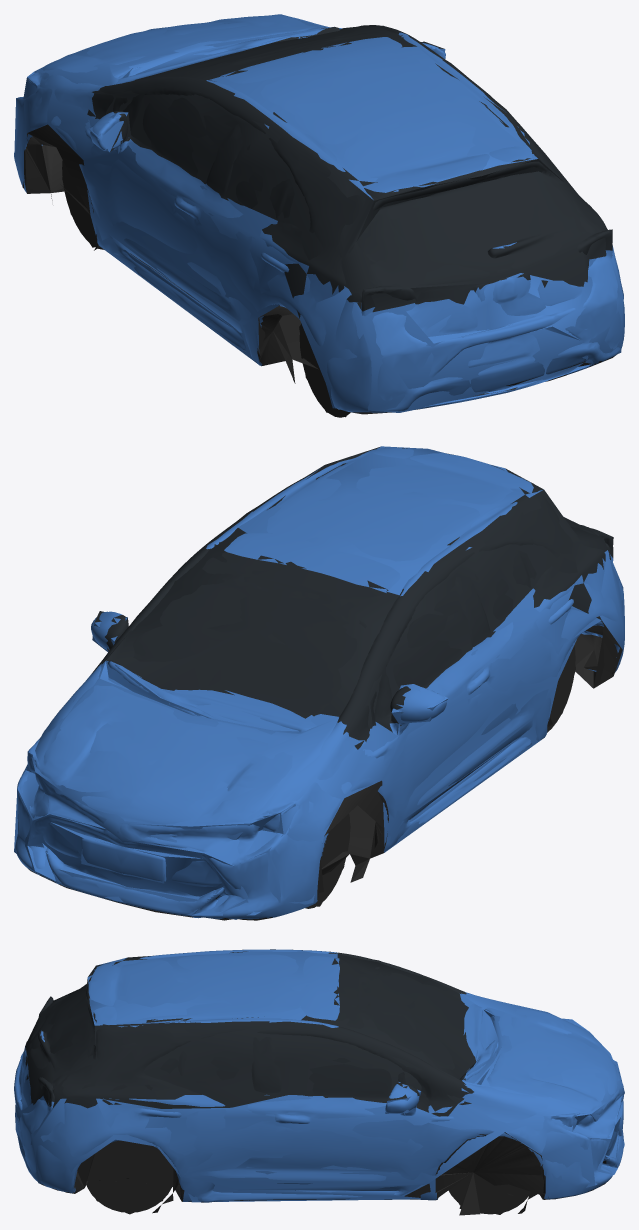
The model's file is toyota-corolla.glb.
3 views of the same model, one above another, from view 1: azimuth 30°, elevation 25°; view 2: azimuth 150°, elevation 25°; view 3: azimuth 270°, elevation 25° (orthographic). The views are drawn at different scales.
Parts seen in each view (by area): view 1: body, far; view 2: body, far; view 3: body, far.
Part boxes in pixels (x1=…): body: x1=14, y1=15, x2=624, y2=417; far: x1=14, y1=14, x2=623, y2=417; body: x1=15, y1=447, x2=624, y2=920; far: x1=14, y1=446, x2=623, y2=915; body: x1=14, y1=949, x2=623, y2=1215; far: x1=15, y1=951, x2=624, y2=1214.
Size of the model in its own units: 2.27 by 1.52 by 4.41.
